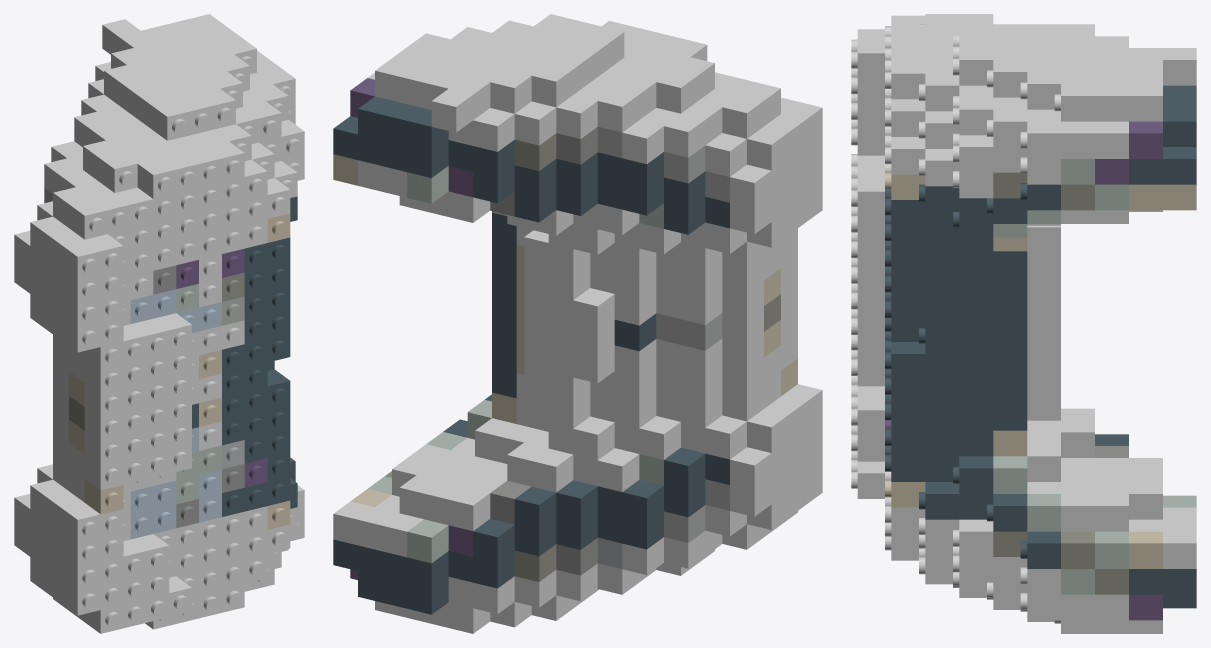
The model's file is full.glb.
3 renders of one model, left to right at view 1: azimuth 30°, elevation 25°; view 2: azimuth 150°, elevation 25°; view 3: azimuth 270°, elevation 25°, orthographic. The views are drawn at different scales.
Visible parts, largest first — view 1: world; view 2: world; view 3: world.
Part boxes in pixels (box(x1,y1,x2,y2)): world: box(14, 14, 304, 633); world: box(333, 14, 822, 633); world: box(851, 14, 1196, 633).
Size of the model in its own units: 104 by 168 by 97.8.
